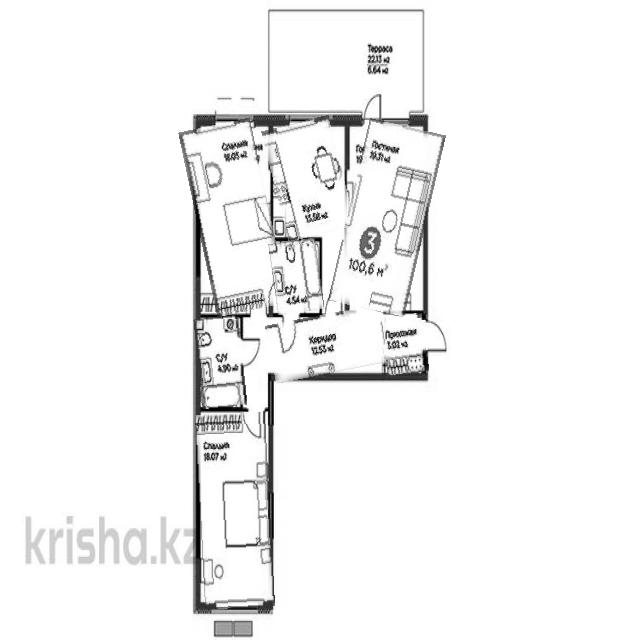balcony: (270, 13, 423, 113)
bathroom: (196, 316, 245, 408), (271, 240, 322, 314)
hallway: (268, 309, 384, 378), (382, 314, 428, 375)
kitchen: (338, 121, 436, 314), (268, 118, 349, 240)
living_room: (188, 120, 279, 315), (197, 412, 273, 609)
